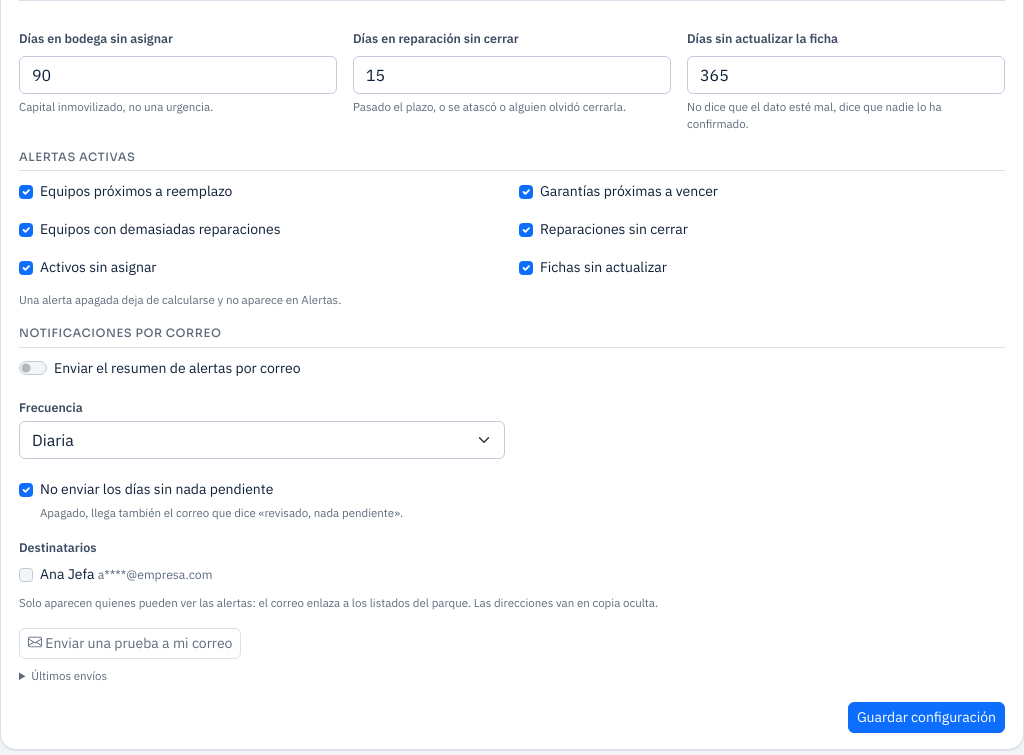
Test: Notificaciones por correo del centro de alertas › envía la prueba al correo de quien la pide y muestra el resultado
(page scrolled)
Expected: the text "Ana Jefa" is shown, [40,565,94,583]
What coordinates should you click on to do the following:
click the button "Enviar una prueba a mi correo"
I would click on:
 (130, 643)
Its box is [19,628,241,658].
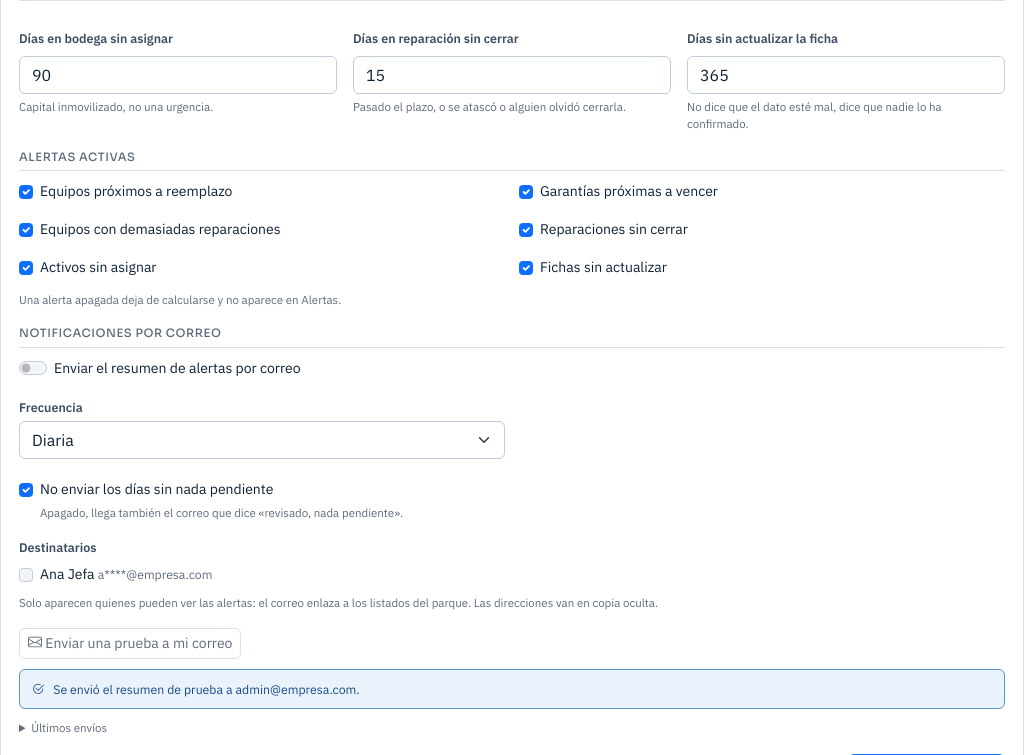
Expected: the text "Se envió el resumen de prueba a admin@empresa.com." is shown, [19,668,1005,709]
